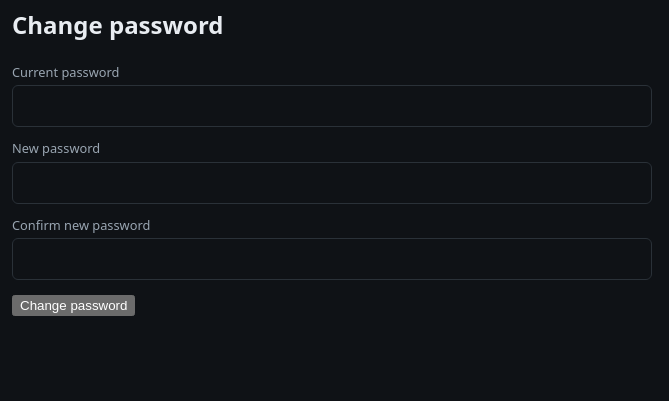
it: ChangePasswordCard › shows an error when the API rejects (wrong current password)
Type "wrong-current" into the password field labelled "Current password" at (332, 106), box x1=12 y1=85 x2=652 y2=127
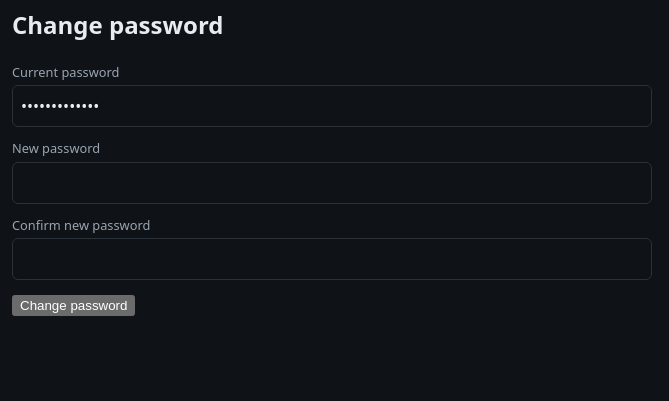
Type "a-brand-new-password" into the password field labelled "New password" at (332, 183), box x1=12 y1=162 x2=652 y2=204
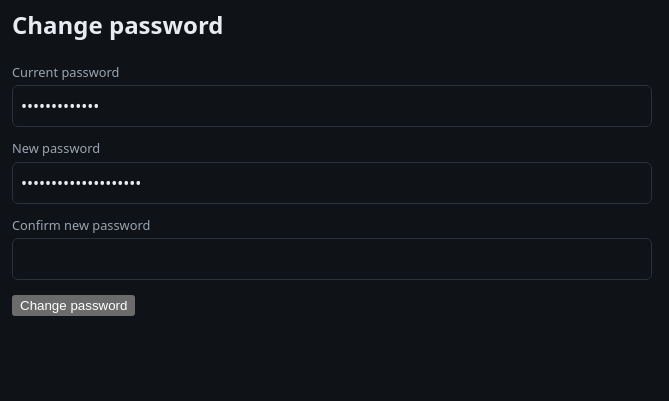
Type "a-brand-new-password" into the password field labelled "Confirm new password" at (332, 259), box x1=12 y1=238 x2=652 y2=280
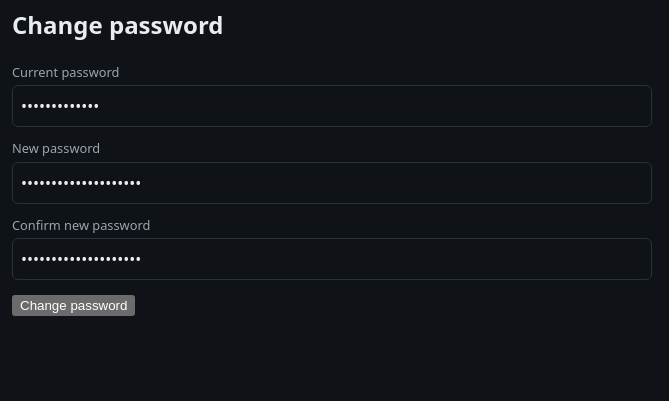
Click the button "Change password" at (74, 305), box x1=12 y1=295 x2=135 y2=316
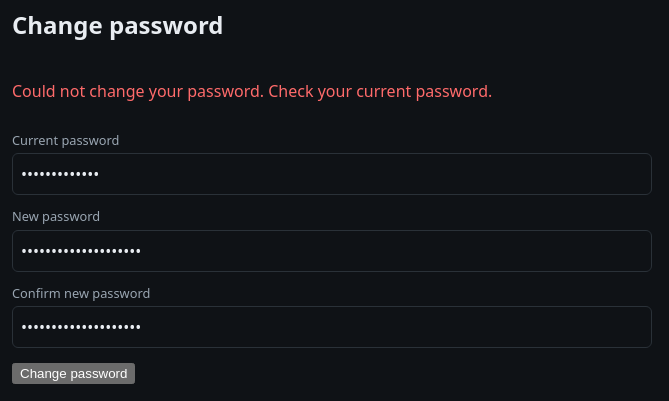
Now the text "Could not change your password. Check your current password." is shown, box x1=12 y1=80 x2=492 y2=102
